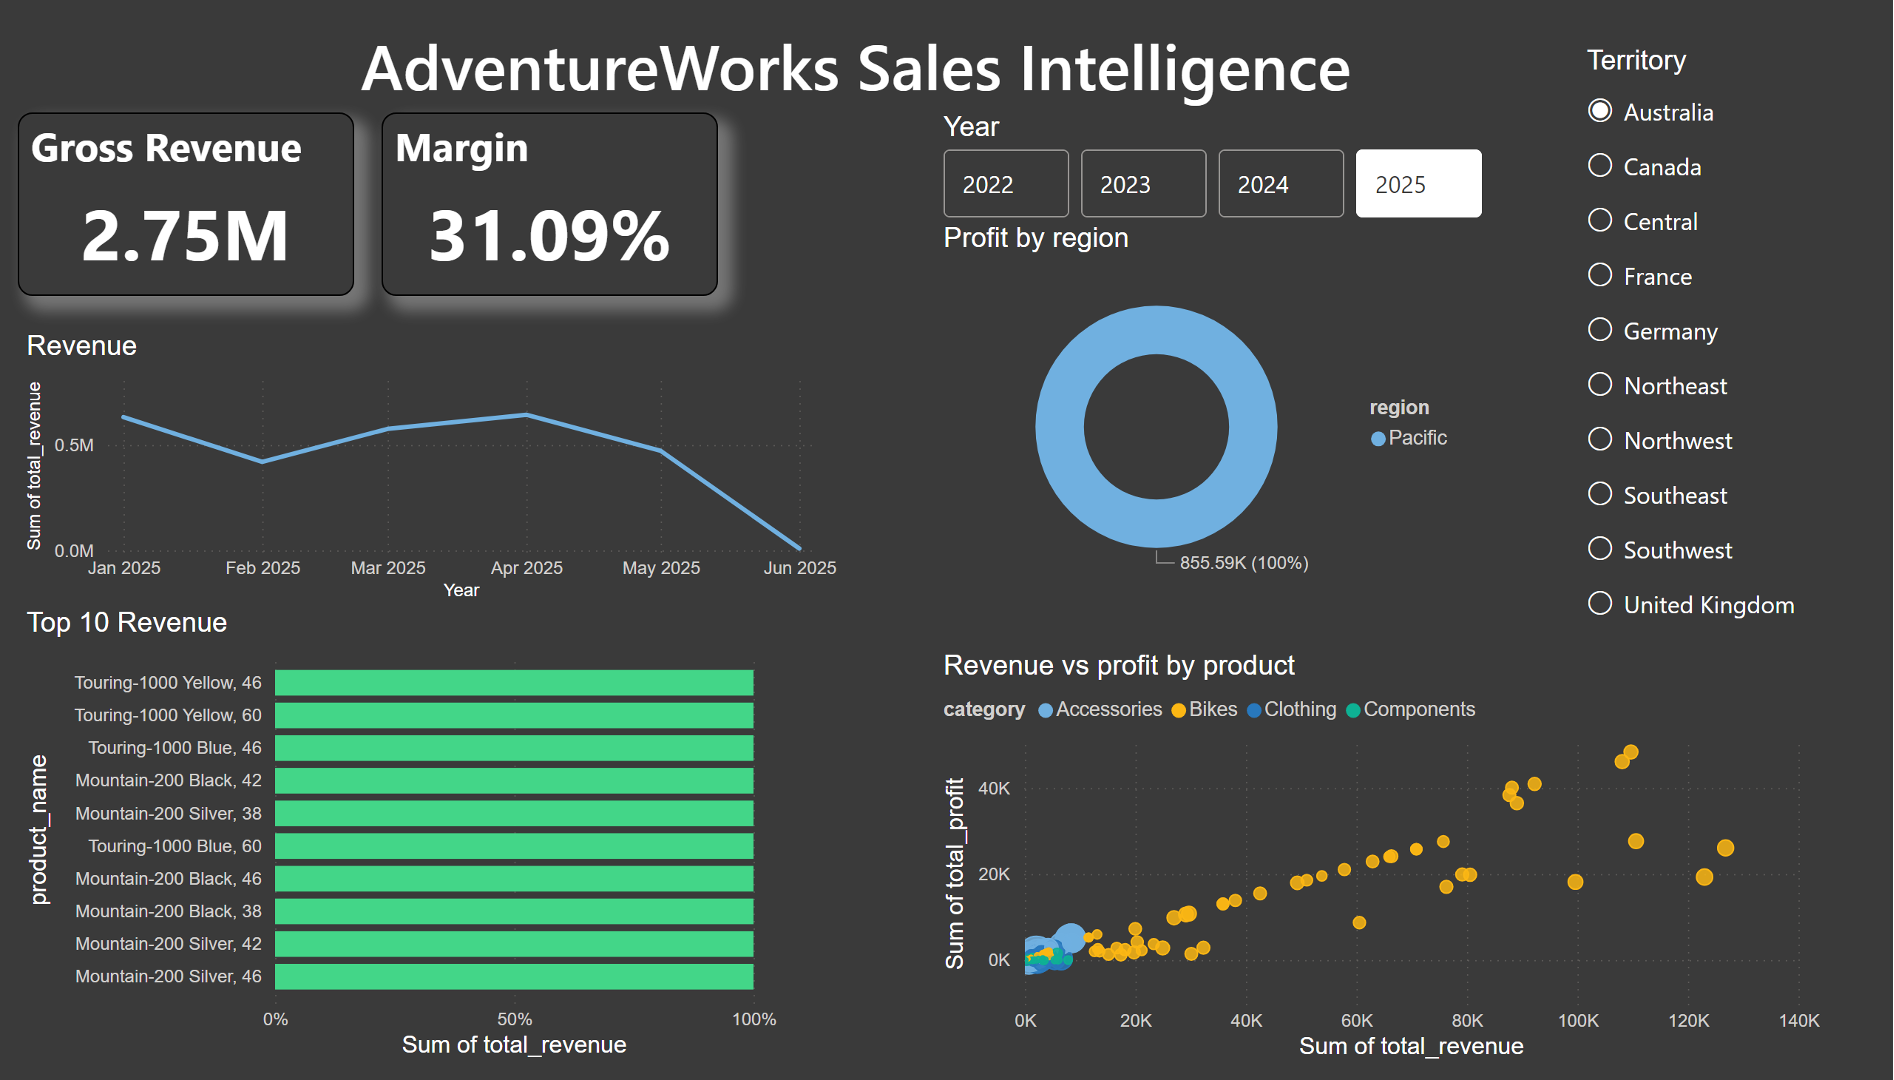

What the dashboard file says about the page in this screenshot:
{"tool":"powerbi","page":{"name":"Page 1","canvas":[1280,720],"ordinal":0},"visuals":[{"type":"hundredPercentStackedBarChart","title":"Top 10 Revenue","fields":{"Category":["sales vw_sales_performance.product_name"],"Y":["Sum(sales vw_sales_performance.total_revenue)"]},"box":[12.5,410,517.5,310],"z":1000},{"type":"lineChart","title":"Revenue","fields":{"Y":["Sum(sales vw_sales_performance.total_revenue)"],"Category":["sales vw_sales_performance.order_date.Variation.Date Hierarchy.Year","sales vw_sales_performance.order_date.Variation.Date Hierarchy.Month"]},"box":[12.5,222.5,557.5,187.5],"z":2000},{"type":"advancedSlicerVisual","fields":{"Values":["sales vw_sales_performance.order_date.Variation.Date Hierarchy.Year"]},"box":[632.5,75,377.5,77.5],"z":3000},{"type":"listSlicer","title":"Territory","fields":{"Values":["sales vw_sales_performance.territory"]},"box":[1067.5,30,167.5,410],"z":4000},{"type":"textbox","title":"AdventureWorks Sales Intelligence","box":[239.4,15.2,700,60.6],"z":4500},{"type":"scatterChart","title":"Revenue vs profit by product","fields":{"Category":["sales vw_sales_performance.product_name"],"X":["Sum(sales vw_sales_performance.total_revenue)"],"Y":["Sum(sales vw_sales_performance.total_profit)"],"Series":["sales vw_sales_performance.category"],"Size":["Sum(sales vw_sales_performance.quantity)"]},"box":[633.3,439.4,603,281.8],"z":5000},{"type":"donutChart","title":"Profit by region","fields":{"Category":["sales vw_sales_performance.region"],"Y":["Sum(sales vw_sales_performance.total_profit)"]},"box":[632.5,150,360,260],"z":6000},{"type":"card","title":"Gross Revenue","fields":{"Values":["Sum(sales vw_sales_performance.total_revenue)"]},"box":[12.1,75.8,227.3,124.2],"z":7000},{"type":"card","title":"Margin","fields":{"Values":["sales vw_sales_performance.Margin"]},"box":[257.6,75.8,227.3,124.2],"z":9000}]}

Visuals, with their boxes in screenshot pixels (x1, y1, x2, y2), scaled from the page's 1280x720 canvas onto the 1894x1080 screenshot:
"Top 10 Revenue" hundredPercentStackedBarChart: <bbox>18, 615, 784, 1079</bbox>
"Revenue" lineChart: <bbox>18, 334, 843, 615</bbox>
advancedSlicerVisual - sales vw_sales_performance.order_date.Variation.Date Hierarchy.Year: <bbox>936, 112, 1494, 229</bbox>
"Territory" listSlicer: <bbox>1580, 45, 1827, 660</bbox>
"AdventureWorks Sales Intelligence" textbox: <bbox>354, 23, 1390, 114</bbox>
"Revenue vs profit by product" scatterChart: <bbox>937, 659, 1829, 1079</bbox>
"Profit by region" donutChart: <bbox>936, 225, 1469, 615</bbox>
"Gross Revenue" card: <bbox>18, 114, 354, 300</bbox>
"Margin" card: <bbox>381, 114, 718, 300</bbox>
